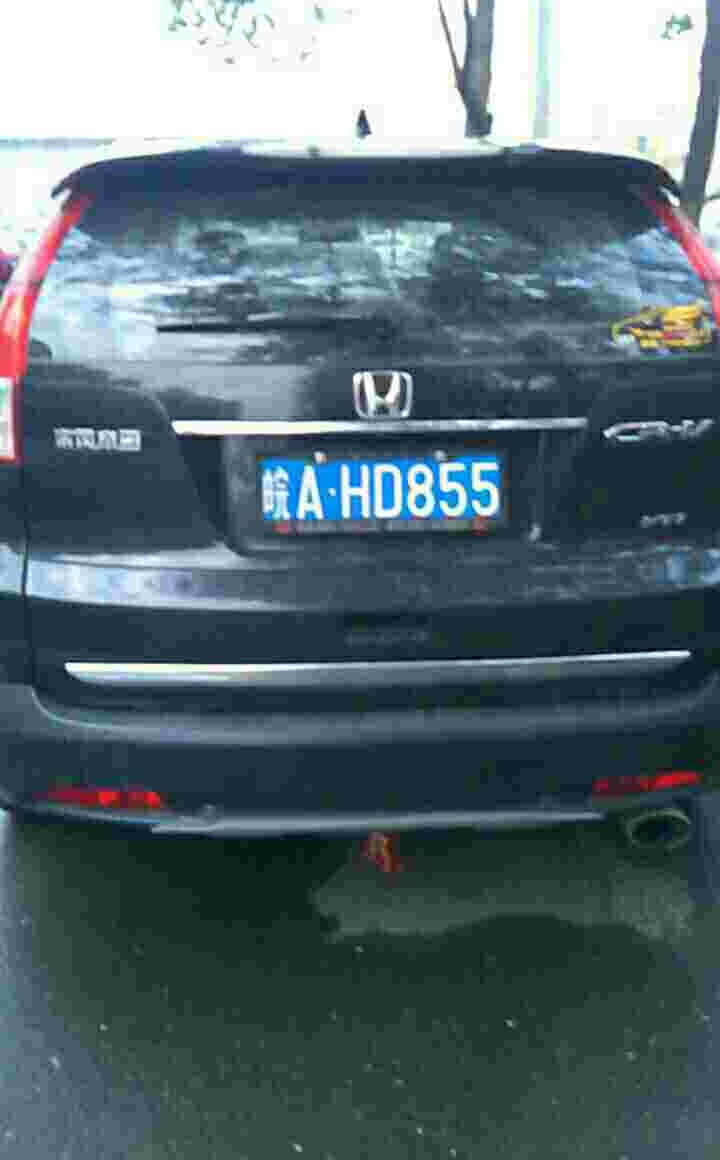plate: (256, 445, 514, 538)
